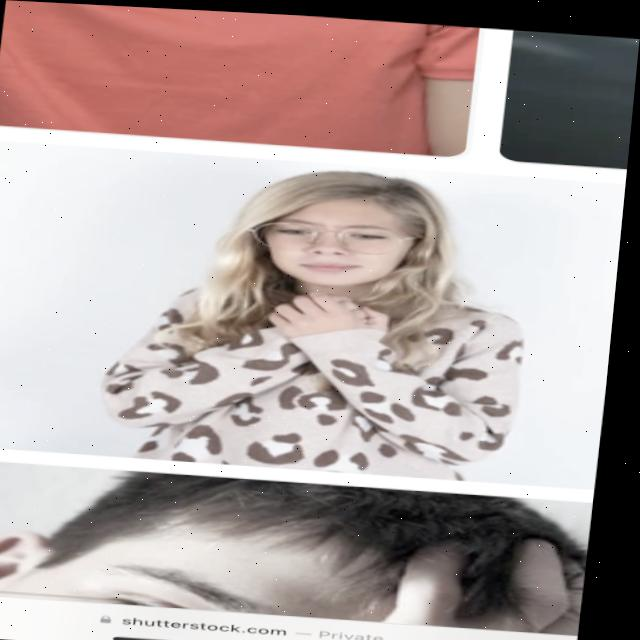sad: (214, 189, 455, 300)
